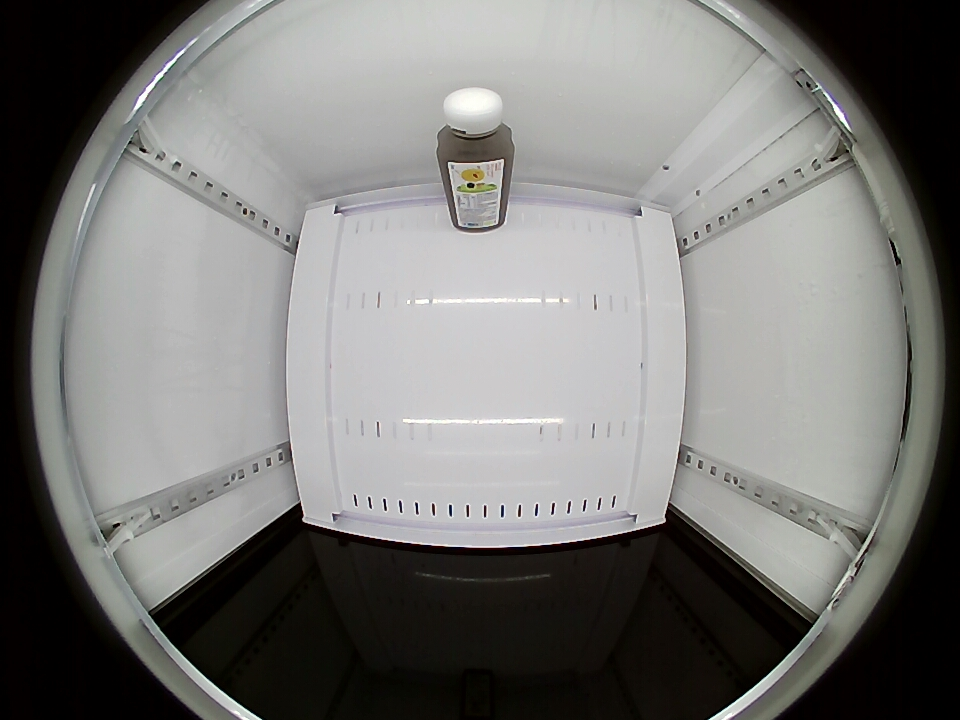youyanggudong: (437, 87, 514, 170)
